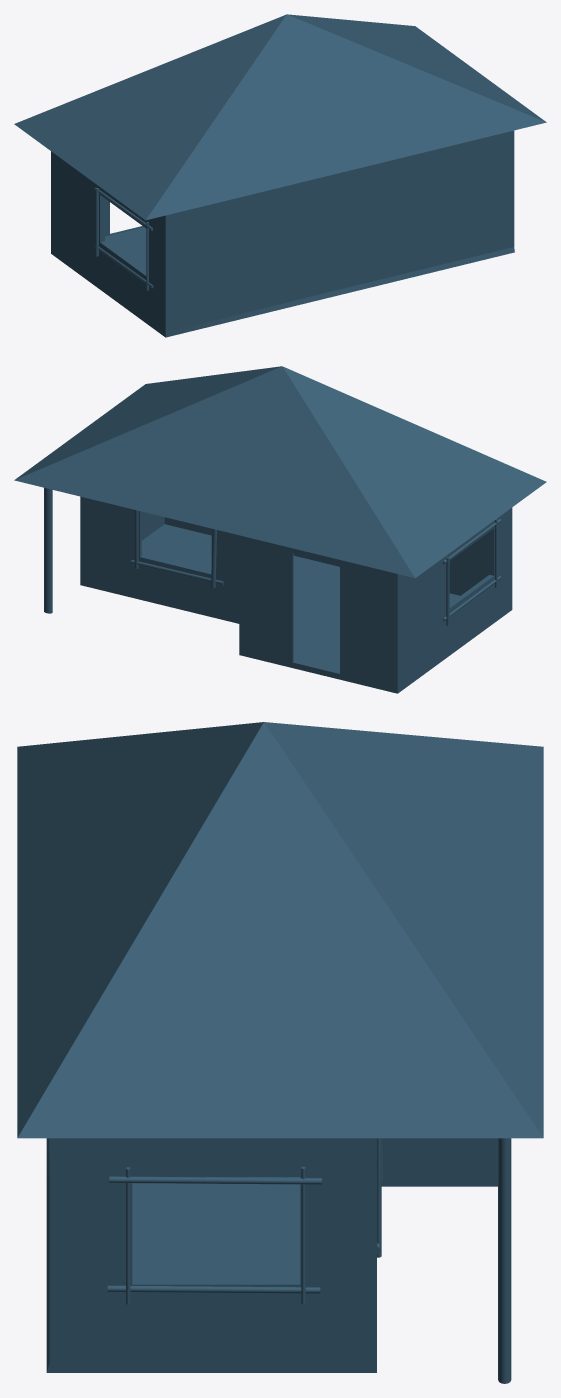
File: maison_vietnamienne.fbx
The picture shows the model from 3 angles, top to bottom: view 1: azimuth 30°, elevation 25°; view 2: azimuth 150°, elevation 25°; view 3: azimuth 270°, elevation 25°; orthographic projection. The views are drawn at different scales.
Visible parts, largest first — view 1: Pyramid001; view 2: Pyramid001; view 3: Pyramid001.
Part boxes in pixels (<box>): Pyramid001: <box>14,14,546,337</box>; Pyramid001: <box>14,366,546,693</box>; Pyramid001: <box>17,722,543,1383</box>.
Size of the model in its own units: 7.21 by 4.19 by 4.1.
